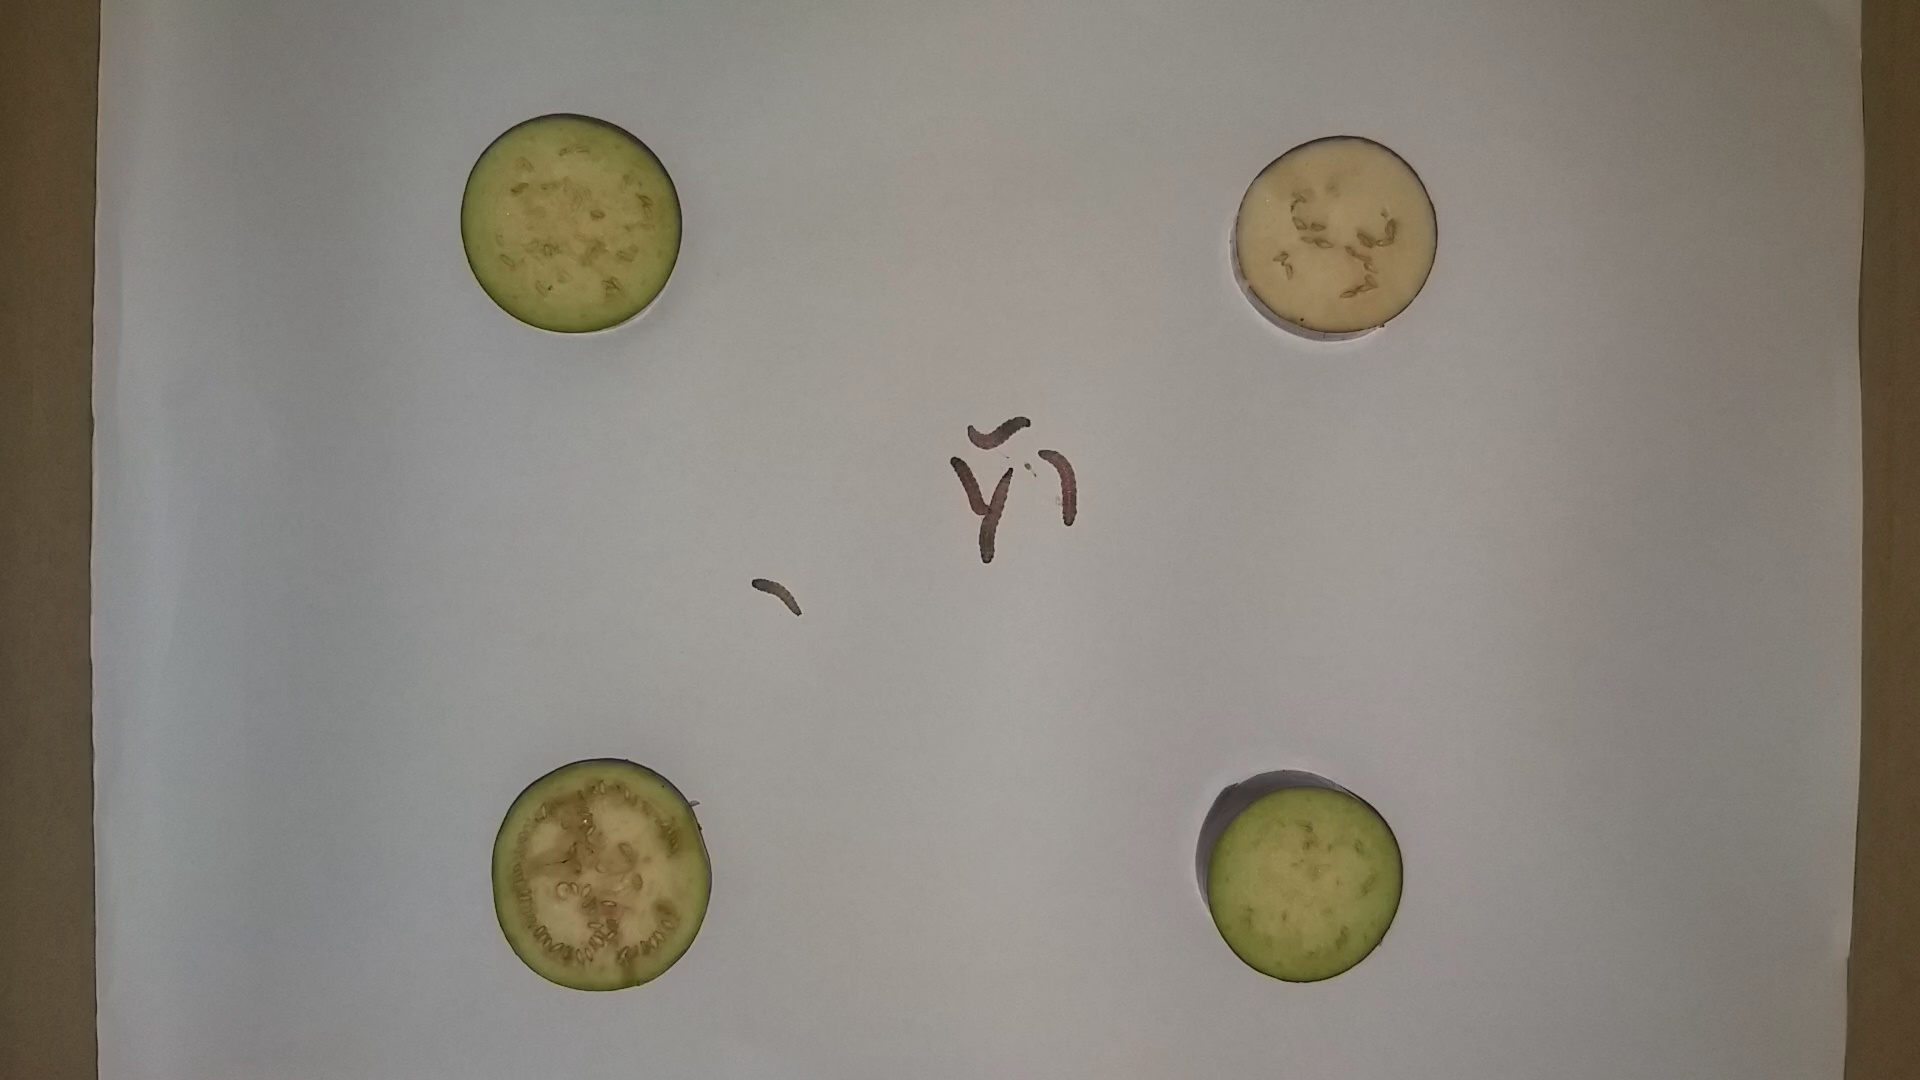efsb: (971, 464, 1015, 572), (1031, 447, 1083, 530), (944, 455, 993, 520), (961, 410, 1038, 450), (746, 572, 803, 621)
